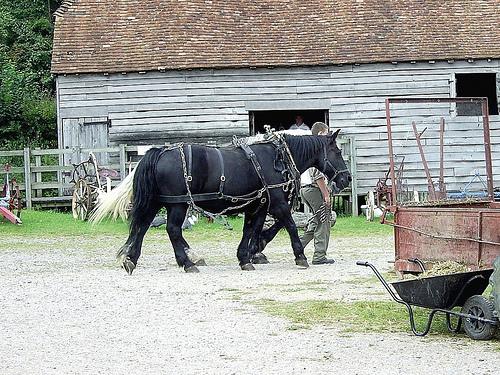horse: (112, 126, 350, 278)
